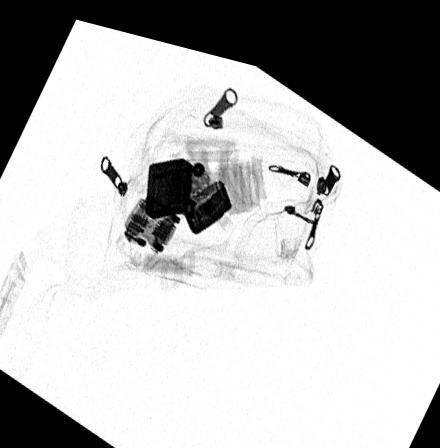Lighter: (144, 147, 232, 225)
